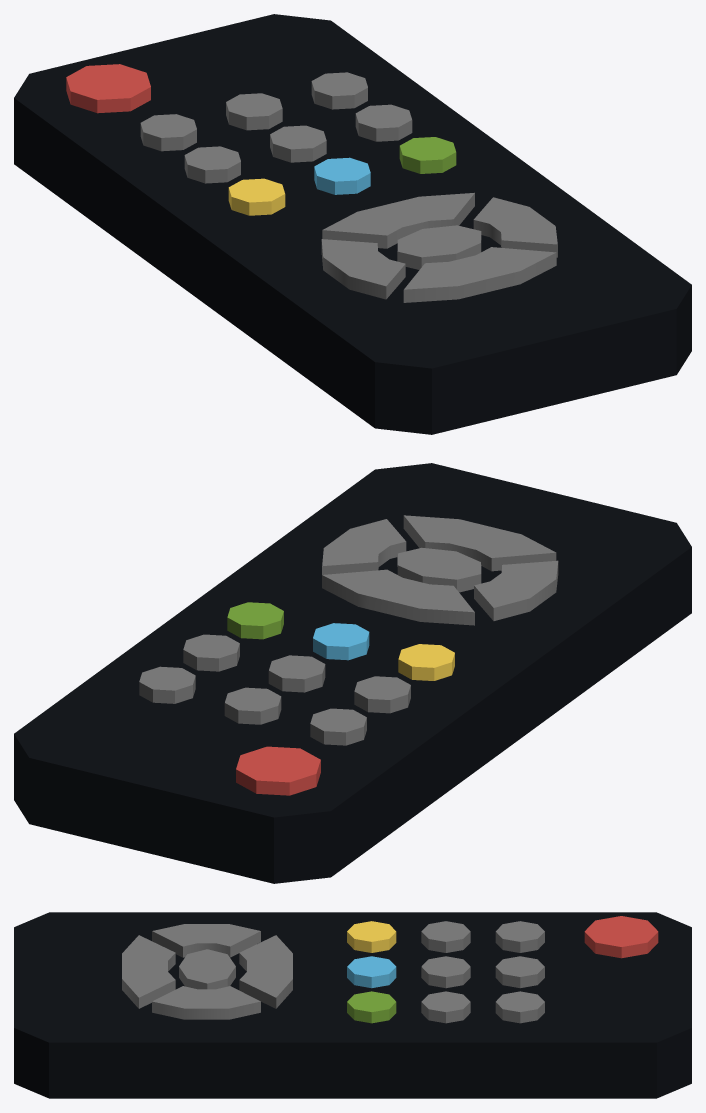
File: remoteControl_broken.fbx
3 renders of one model, top to bottom at view 1: azimuth 30°, elevation 25°; view 2: azimuth 150°, elevation 25°; view 3: azimuth 270°, elevation 25°, orthographic. The views are drawn at different scales.
Visible parts, largest first — view 1: remoteControl_Part_6, remoteControl_Part_7, remoteControl_Part_2, remoteControl_Part_16, remoteControl_Part_11, remoteControl_Part_1, remoteControl_Part_10, remoteControl_Part_15, remoteControl_Part_8, remoteControl_Part_9, remoteControl_Part_5, remoteControl_Part_14 (+3 smaller); view 2: remoteControl_Part_6, remoteControl_Part_2, remoteControl_Part_9, remoteControl_Part_11, remoteControl_Part_3, remoteControl_Part_4, remoteControl_Part_10, remoteControl_Part_15, remoteControl_Part_1, remoteControl_Part_16, remoteControl_Part_7, remoteControl_Part_14 (+3 smaller); view 3: remoteControl_Part_1, remoteControl_Part_16, remoteControl_Part_9, remoteControl_Part_14, remoteControl_Part_2, remoteControl_Part_10, remoteControl_Part_15, remoteControl_Part_6, remoteControl_Part_3, remoteControl_Part_7, remoteControl_Part_8, remoteControl_Part_4 (+3 smaller).
Part boxes in pixels (x1,y1,x2,y2): remoteControl_Part_6: [192, 228, 422, 410]; remoteControl_Part_7: [349, 306, 544, 434]; remoteControl_Part_2: [136, 105, 402, 295]; remoteControl_Part_16: [493, 234, 691, 385]; remoteControl_Part_11: [19, 102, 178, 253]; remoteControl_Part_1: [361, 94, 572, 199]; remoteControl_Part_10: [169, 72, 431, 152]; remoteControl_Part_15: [194, 173, 426, 297]; remoteControl_Part_8: [384, 227, 535, 310]; remoteControl_Part_9: [187, 14, 421, 87]; remoteControl_Part_5: [502, 311, 633, 417]; remoteControl_Part_14: [401, 192, 621, 252]; remoteControl_Part_6: [497, 549, 667, 742]; remoteControl_Part_2: [170, 626, 511, 787]; remoteControl_Part_9: [14, 667, 146, 842]; remoteControl_Part_11: [315, 711, 461, 848]; remoteControl_Part_3: [136, 709, 255, 879]; remoteControl_Part_4: [246, 726, 369, 883]; remoteControl_Part_10: [105, 649, 355, 752]; remoteControl_Part_15: [338, 575, 513, 744]; remoteControl_Part_1: [115, 557, 345, 659]; remoteControl_Part_16: [306, 463, 520, 537]; remoteControl_Part_7: [519, 495, 691, 630]; remoteControl_Part_14: [256, 520, 412, 618]; remoteControl_Part_1: [226, 971, 491, 1098]; remoteControl_Part_16: [14, 972, 170, 1098]; remoteControl_Part_9: [499, 992, 691, 1098]; remoteControl_Part_14: [159, 970, 317, 1098]; remoteControl_Part_2: [355, 912, 492, 1025]; remoteControl_Part_10: [462, 930, 591, 1098]; remoteControl_Part_15: [205, 914, 358, 988]; remoteControl_Part_6: [92, 912, 355, 950]; remoteControl_Part_3: [559, 937, 691, 1011]; remoteControl_Part_7: [14, 912, 116, 975]; remoteControl_Part_8: [96, 938, 235, 1003]; remoteControl_Part_4: [540, 912, 691, 962].
Size of the model in its own units: 50 by 12 by 110.
Materials: 1 (1 with a texture image).
